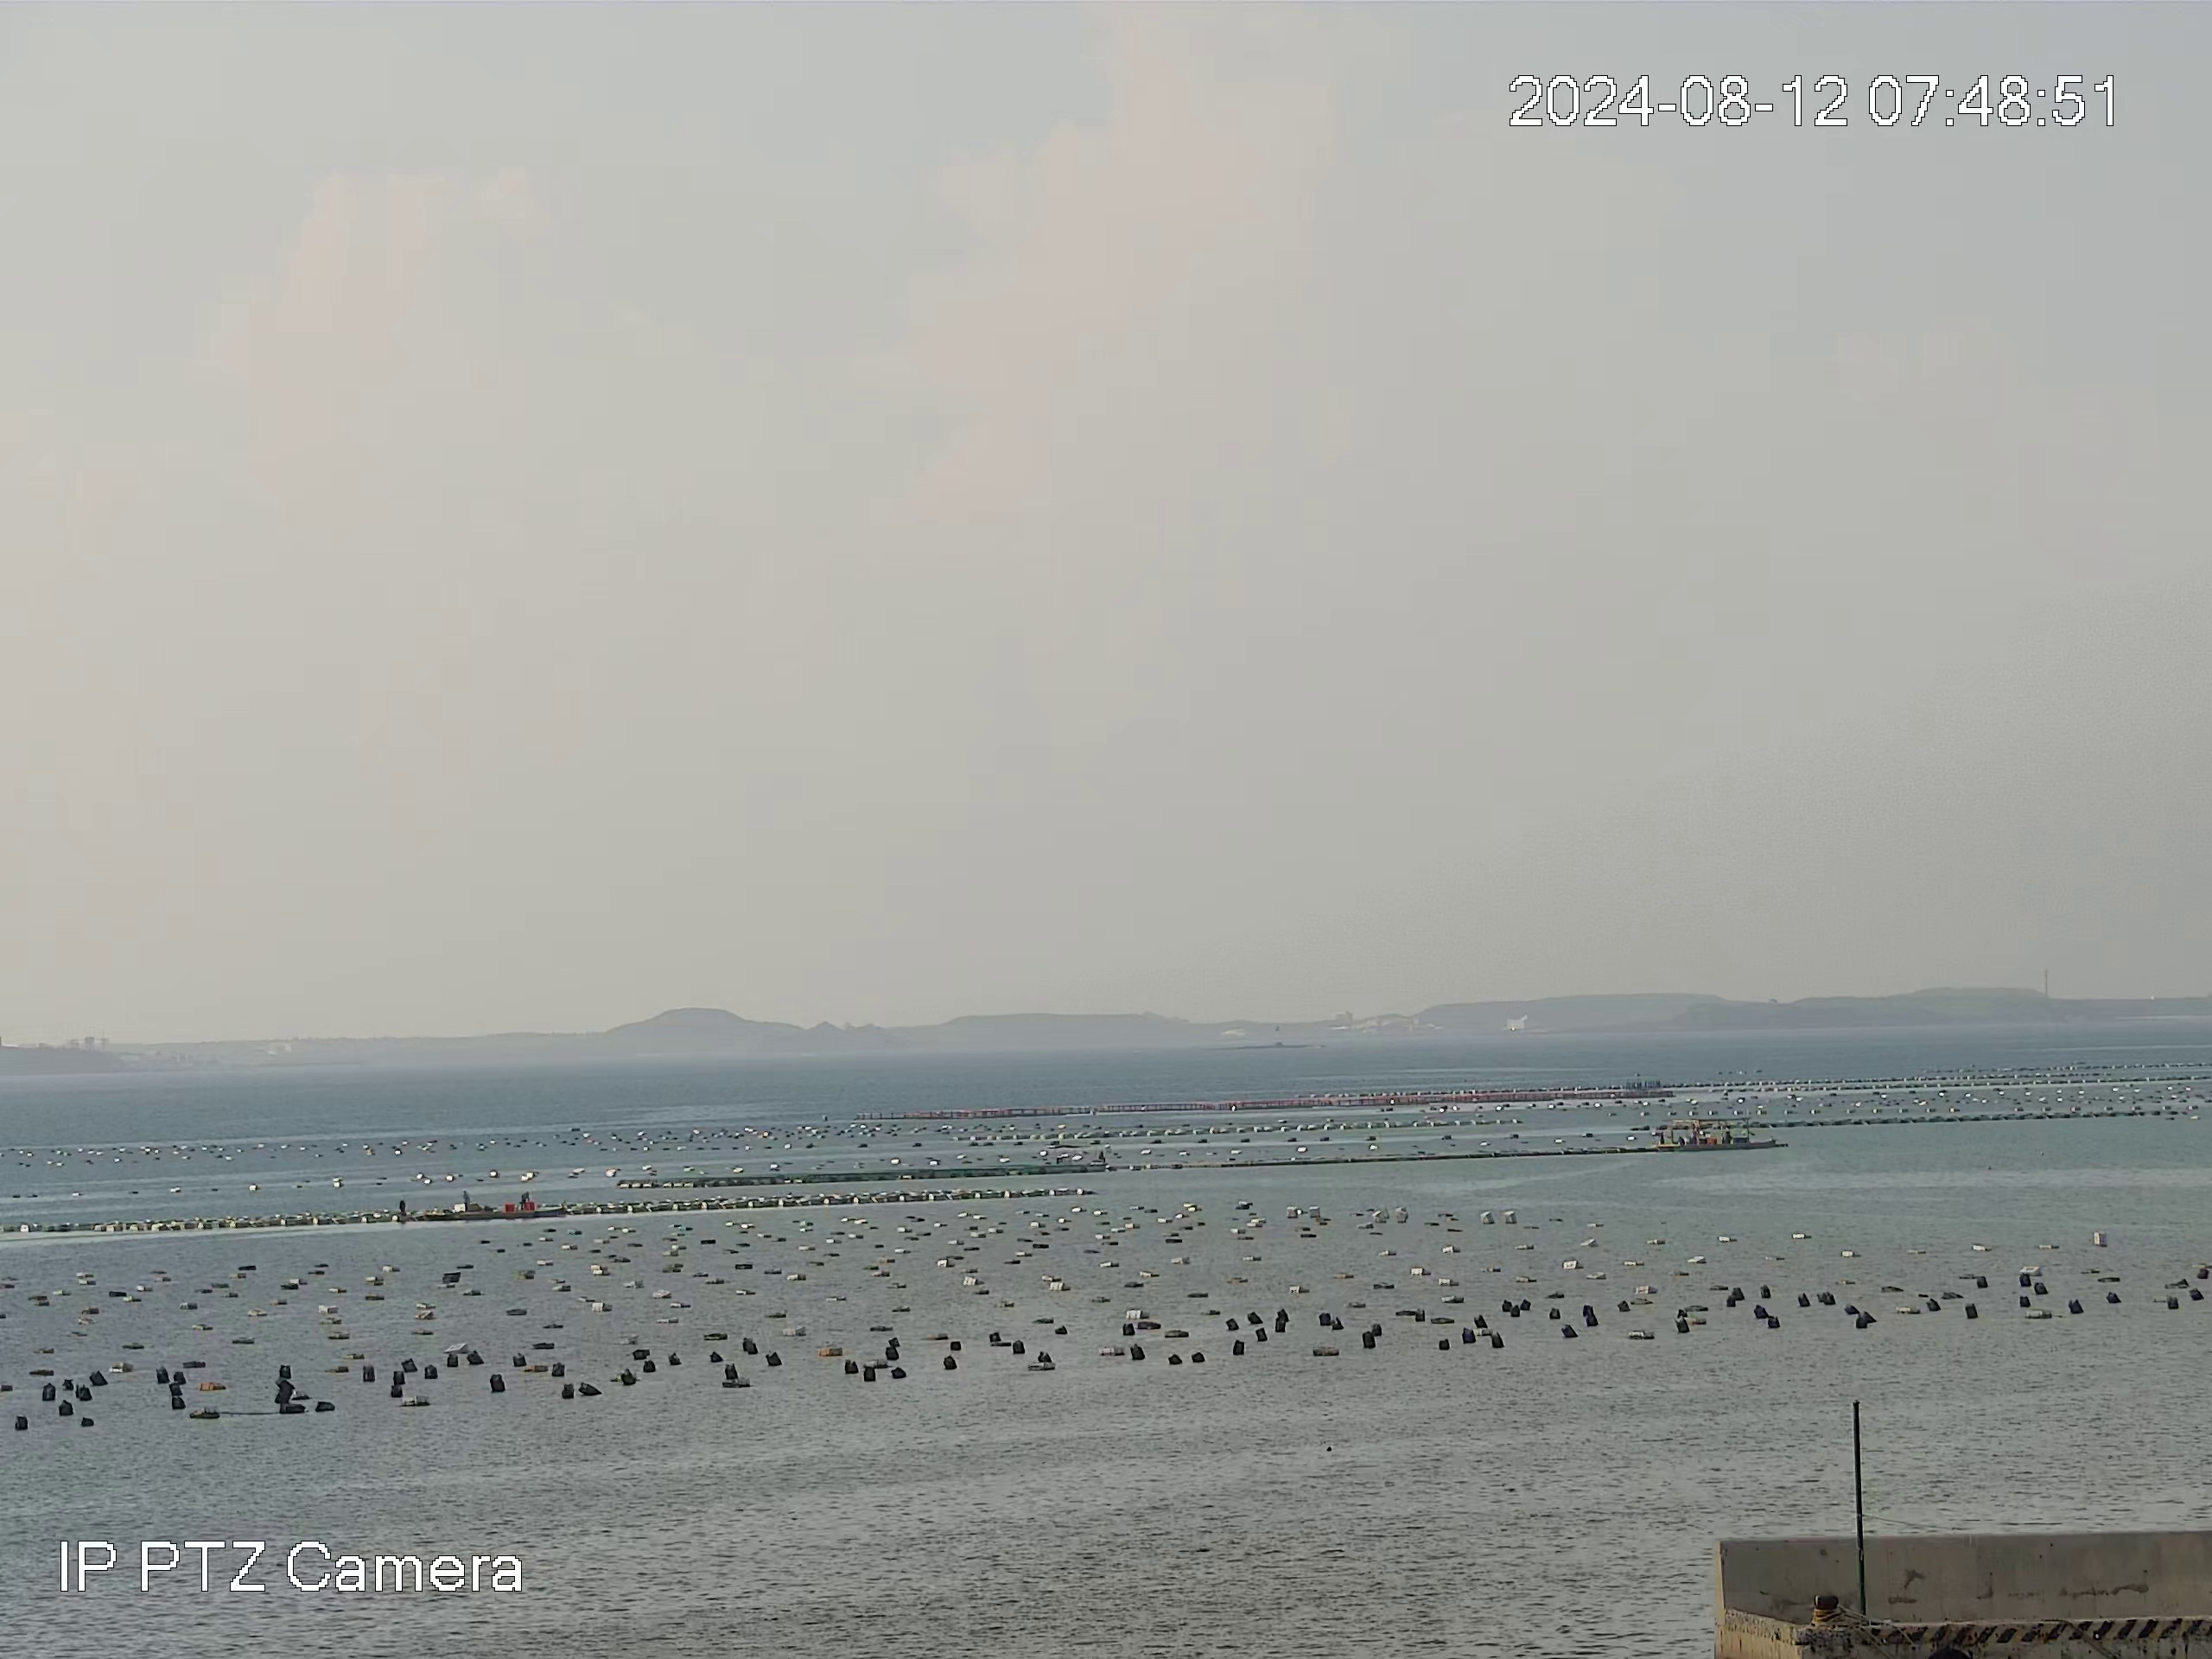boat: (395, 1187, 568, 1216), (1651, 1117, 1778, 1147)
